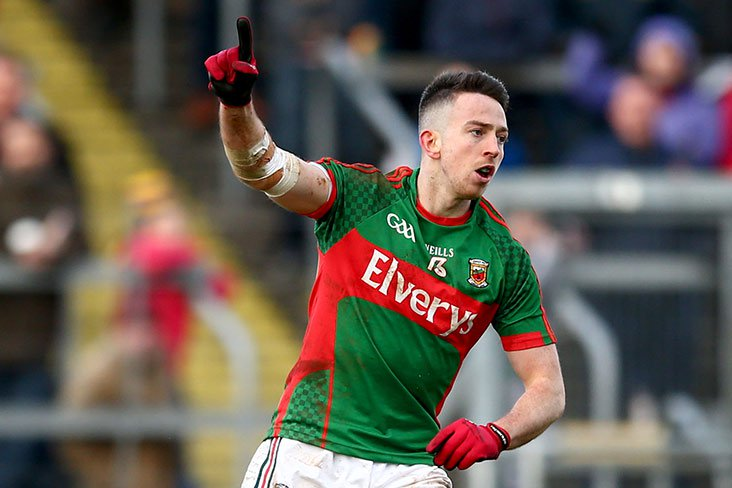player: (299, 59, 561, 487)
